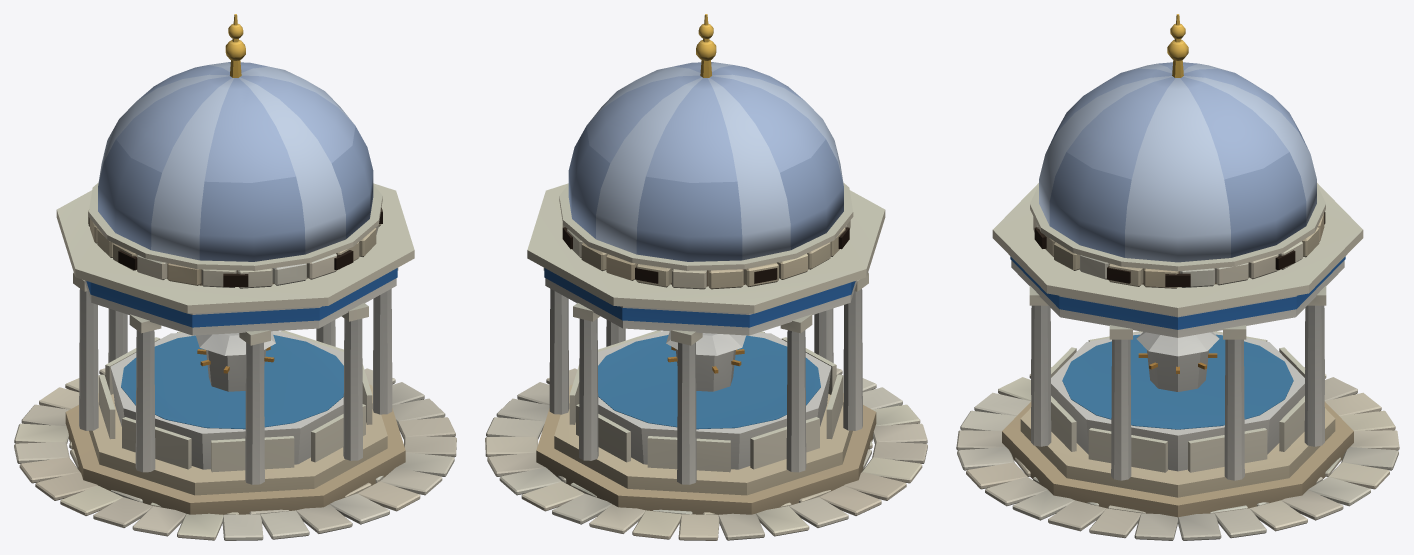
The model's file is city_fountain.glb.
3 renders of one model, left to right at view 1: azimuth 30°, elevation 25°; view 2: azimuth 150°, elevation 25°; view 3: azimuth 270°, elevation 25°, orthographic.
Visible parts, largest first — view 1: city_fountain, Water; view 2: city_fountain, Water; view 3: city_fountain, Water.
Part boxes in pixels (box(x1,y1,x2,y2)): city_fountain: box(14, 14, 456, 540); Water: box(121, 335, 343, 429); city_fountain: box(485, 14, 927, 540); Water: box(598, 335, 820, 429); city_fountain: box(956, 14, 1399, 540); Water: box(1062, 334, 1293, 429).
Bounding box in the file's own units: 0.9555 × 1.03 × 0.9569.
